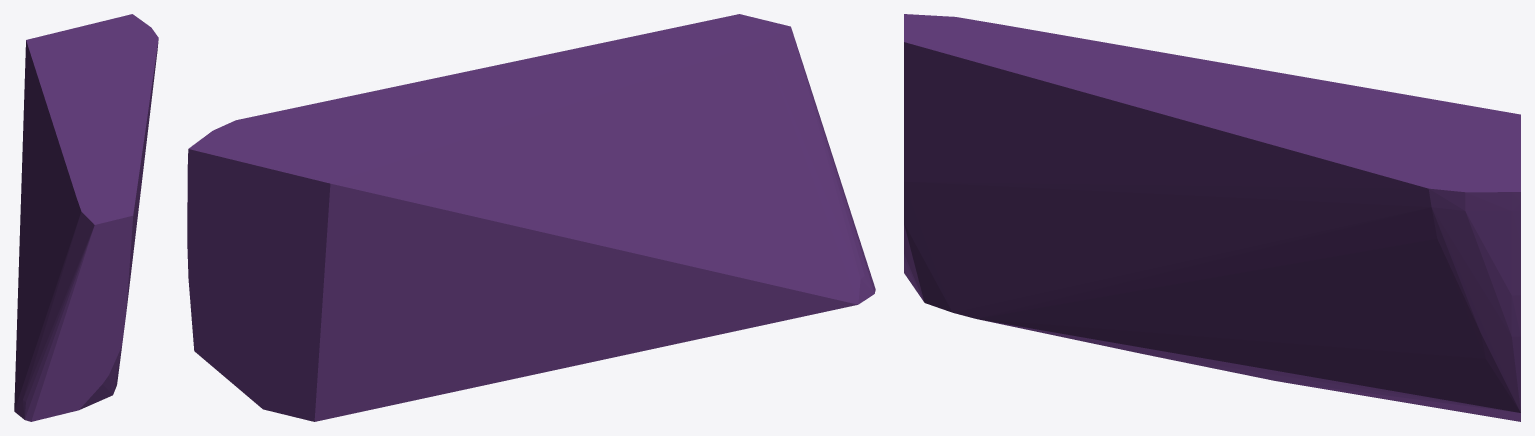
Rendered from left-shoulder-pitch-0_part_79.obj.
3 views of the same model, side by side, from view 1: azimuth 30°, elevation 25°; view 2: azimuth 150°, elevation 25°; view 3: azimuth 270°, elevation 25° (orthographic). The views are drawn at different scales.
Size of the model in its own units: 0.0198 by 0.011 by 0.0228.
